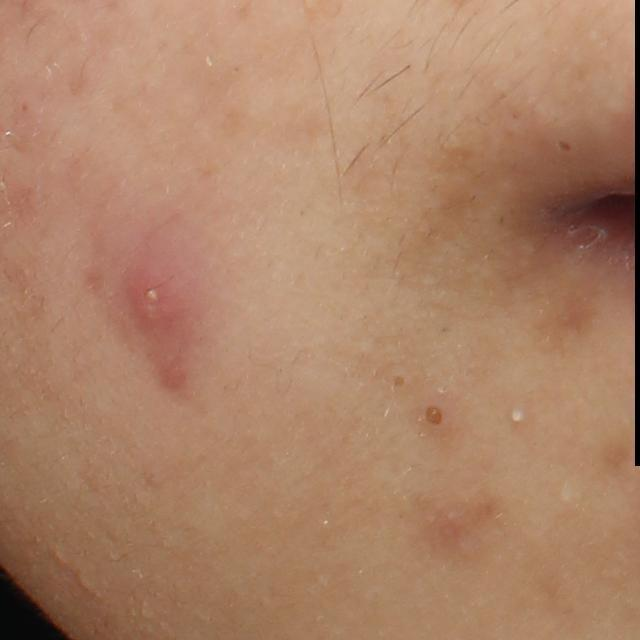comedo: (419, 396, 452, 435), (386, 368, 414, 394), (550, 136, 577, 156), (507, 406, 527, 426)
